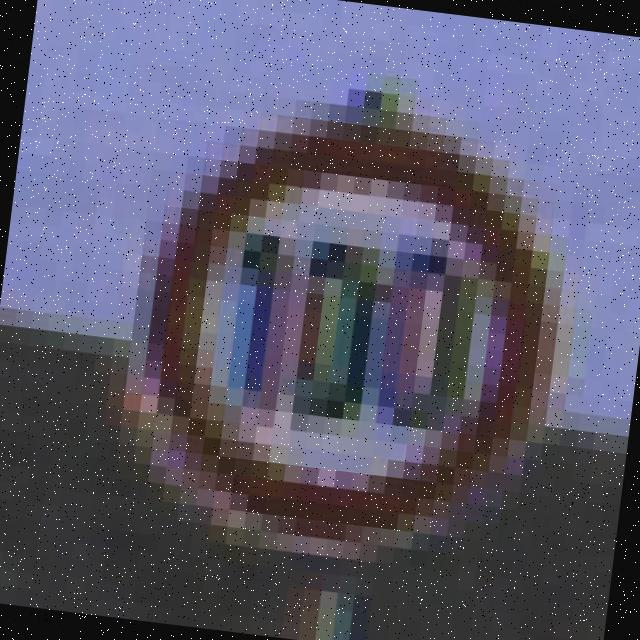Ograniczenie predkosci do 100: (128, 105, 572, 572)
